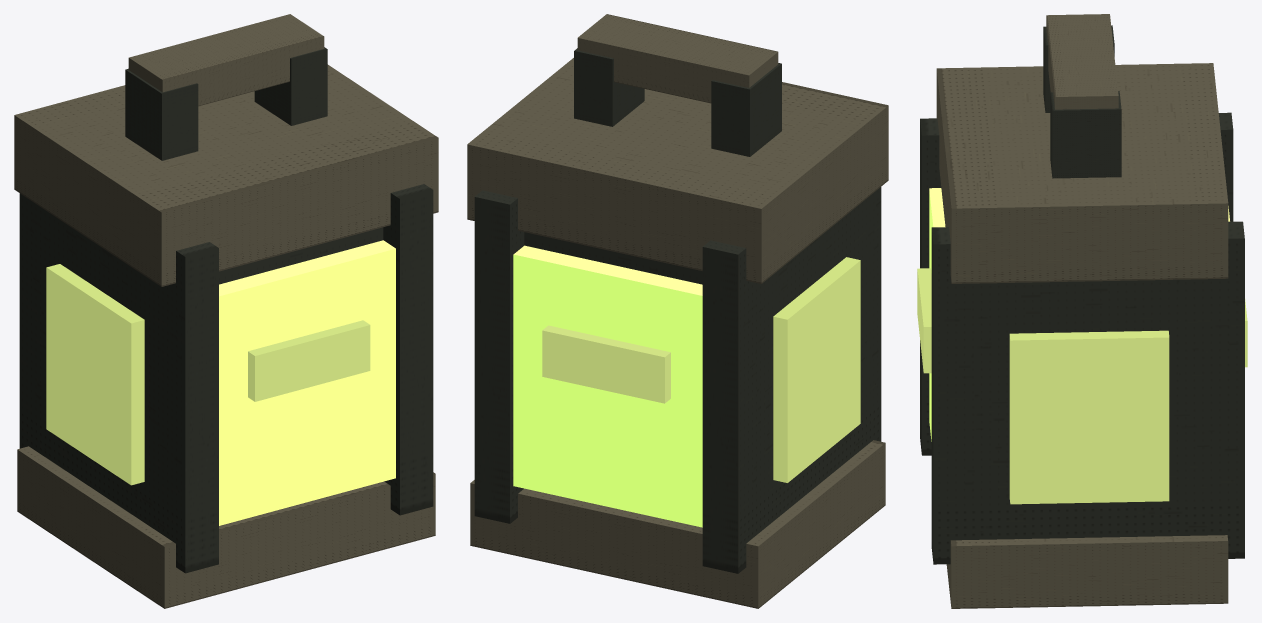
The model's file is salvage-power-cell.glb.
3 views of the same model, side by side, from view 1: azimuth 30°, elevation 25°; view 2: azimuth 150°, elevation 25°; view 3: azimuth 270°, elevation 25° (orthographic).
Parts seen in each view (by area): view 1: Salvage Power Cell; view 2: Salvage Power Cell; view 3: Salvage Power Cell.
Boxes of the visible parts, <box> form: Salvage Power Cell: <box>14,14,438,608</box>; Salvage Power Cell: <box>467,14,888,608</box>; Salvage Power Cell: <box>917,14,1247,608</box>.
Bounding box in the file's own units: 0.4975 × 0.768 × 0.4765.
4 materials, 2 textured.
